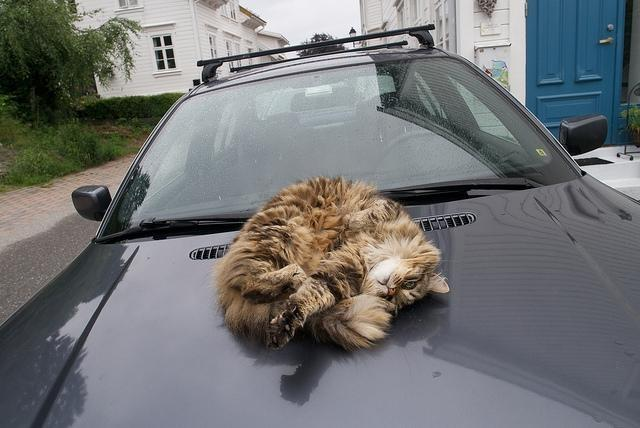car: (1, 24, 640, 421)
